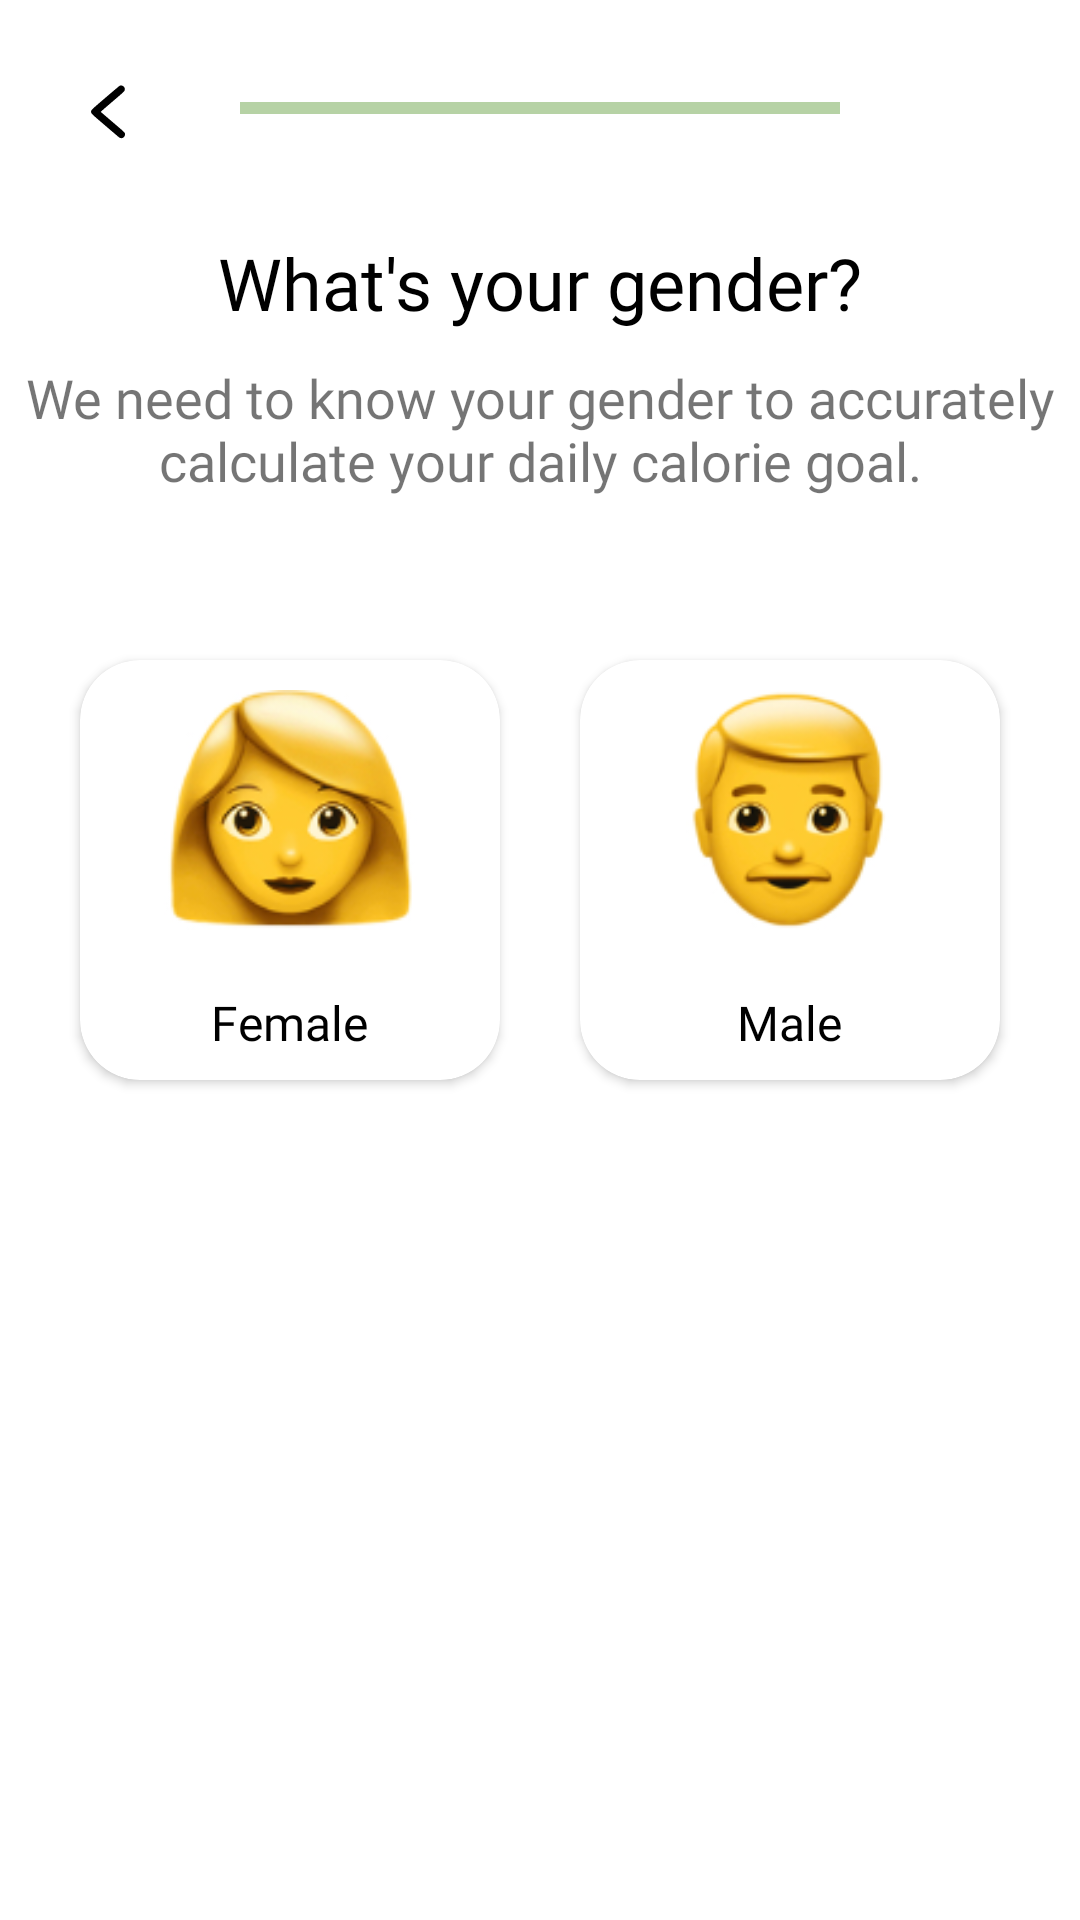

Screen size 1080px×1920px. Icon name, then its center in pixels as [x,y]:
arrow back: [108,112]
